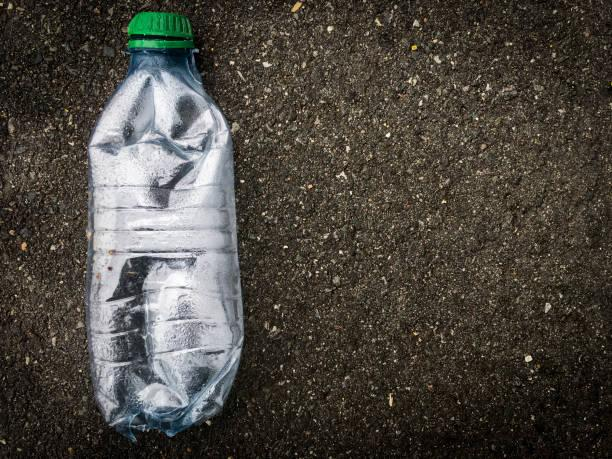Plastic: (66, 4, 282, 455)
